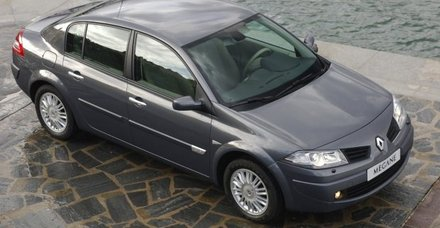ARABA: (8, 1, 417, 222)
